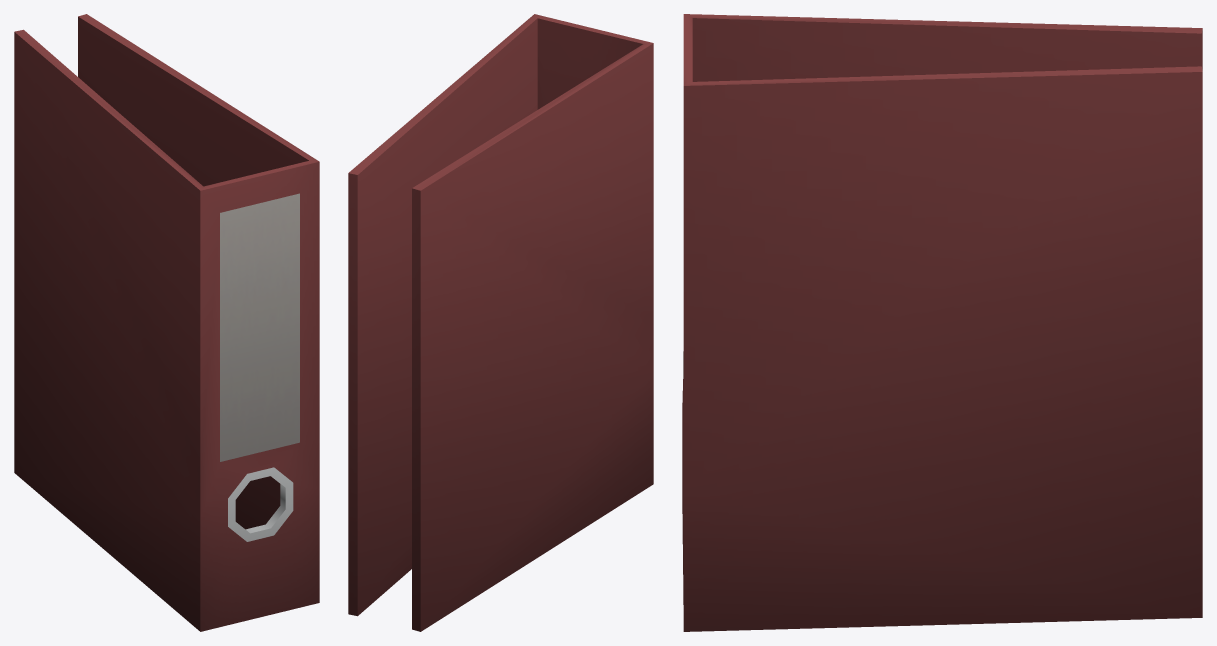
File: RingBinder_Red.fbx
The picture shows the model from 3 angles, left to right: view 1: azimuth 30°, elevation 25°; view 2: azimuth 150°, elevation 25°; view 3: azimuth 270°, elevation 25°; orthographic projection. The views are drawn at different scales.
Visible parts, largest first — view 1: RingBinder_Red; view 2: RingBinder_Red; view 3: RingBinder_Red.
Part boxes in pixels (box(x1,y1,x2,y2)): RingBinder_Red: box(14, 14, 319, 631); RingBinder_Red: box(348, 14, 653, 631); RingBinder_Red: box(682, 14, 1202, 631).
Size of the model in its own units: 8.98 by 31.76 by 27.42.
